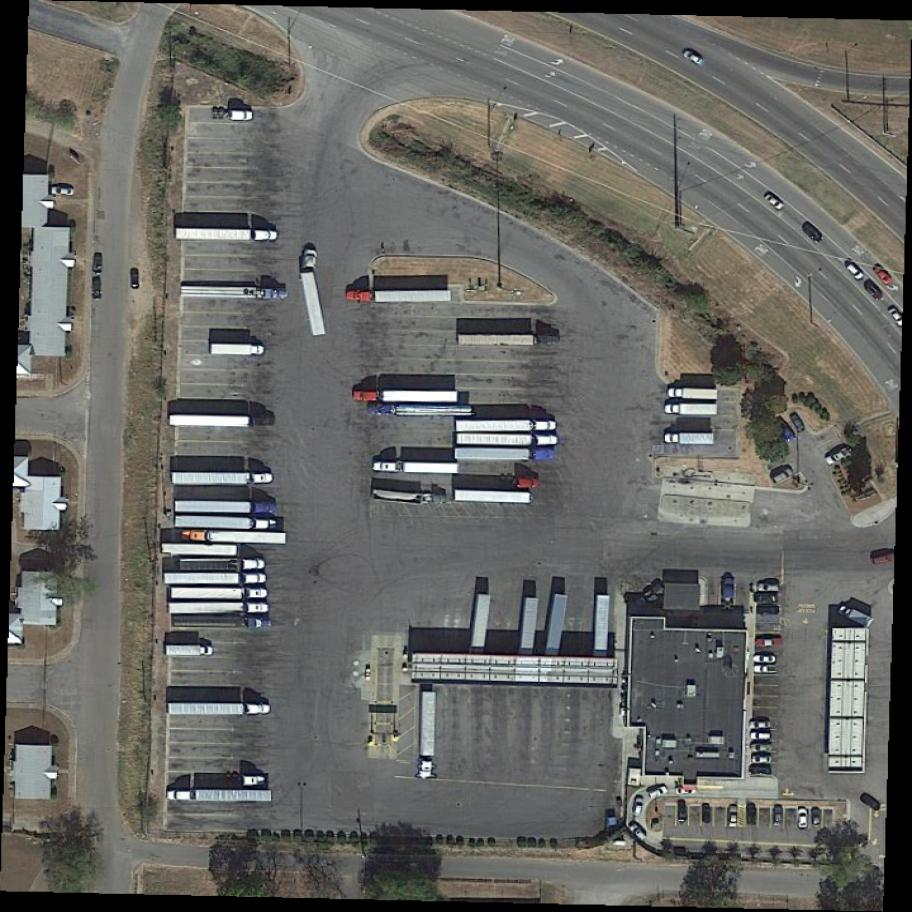large-vehicle: (297, 246, 328, 336), (457, 416, 559, 434), (419, 691, 437, 779), (166, 571, 265, 587), (175, 516, 278, 531), (168, 702, 270, 717), (175, 614, 270, 629), (176, 228, 276, 242), (460, 334, 559, 348), (371, 488, 443, 507), (182, 531, 285, 544), (353, 390, 459, 402), (346, 291, 451, 303), (184, 287, 289, 299), (174, 472, 269, 485), (370, 404, 472, 416), (168, 790, 270, 802), (168, 603, 267, 615), (175, 501, 274, 513), (177, 558, 264, 571), (457, 435, 556, 446), (456, 449, 557, 459), (375, 462, 459, 474), (455, 490, 531, 503), (162, 543, 238, 556), (171, 588, 267, 598), (171, 416, 251, 427), (665, 432, 716, 447), (167, 644, 213, 657), (212, 344, 263, 355), (669, 389, 718, 400), (665, 405, 718, 415)
small-vehicle: (837, 601, 877, 630), (770, 414, 799, 445), (799, 219, 828, 248), (824, 444, 855, 469), (861, 277, 887, 306), (858, 790, 884, 815), (841, 258, 866, 284), (869, 261, 894, 287), (628, 821, 652, 845), (681, 47, 707, 69), (788, 409, 810, 435), (763, 191, 787, 214), (646, 782, 671, 804), (750, 591, 782, 606), (720, 576, 737, 604), (751, 650, 779, 665), (750, 582, 782, 595), (90, 274, 105, 301), (772, 467, 794, 485), (727, 803, 741, 830), (756, 604, 783, 617), (91, 250, 106, 273), (754, 637, 784, 648), (746, 801, 759, 826), (633, 794, 646, 819), (751, 742, 775, 755), (51, 186, 76, 198), (798, 808, 811, 830), (676, 804, 690, 824), (752, 665, 780, 675), (675, 785, 698, 797), (700, 804, 713, 825), (749, 720, 773, 731), (749, 765, 773, 776), (751, 754, 774, 765), (811, 808, 822, 830), (774, 805, 785, 826), (750, 733, 773, 743), (129, 269, 141, 288)
